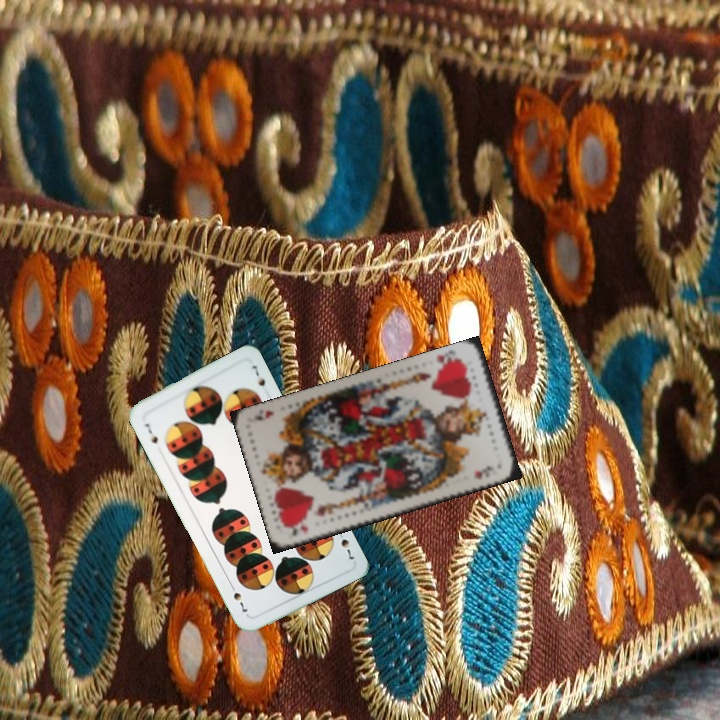HK: (282, 521, 311, 542), (432, 349, 452, 372)
S7: (333, 525, 357, 562), (140, 419, 160, 446)
